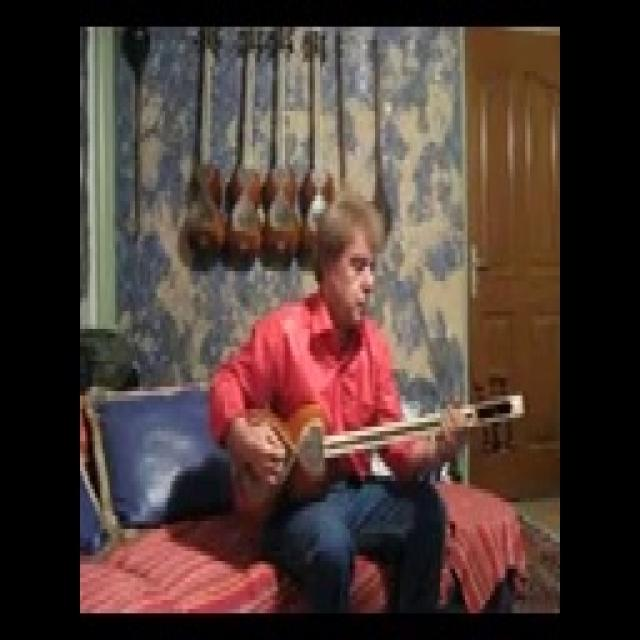Setar: (235, 372, 529, 535)
